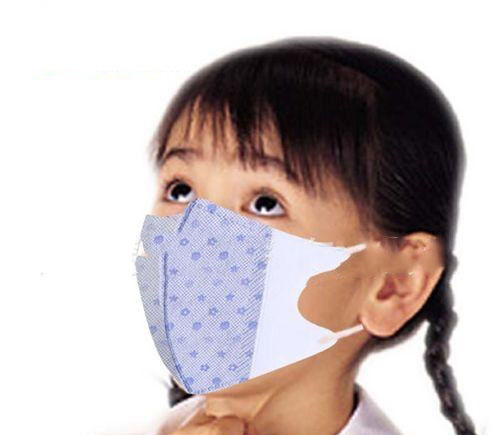face_mask: (142, 93, 370, 371)
